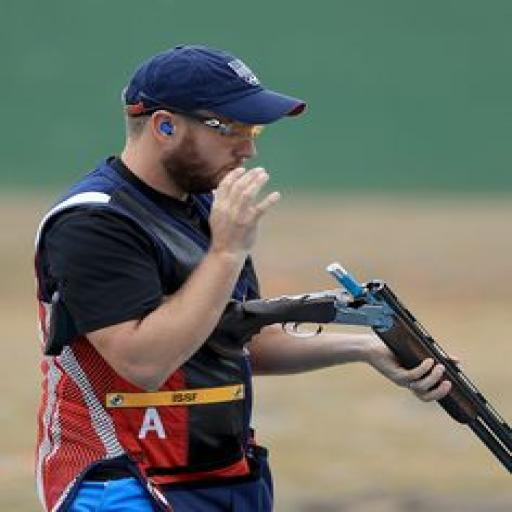shooting: (28, 42, 466, 510)
